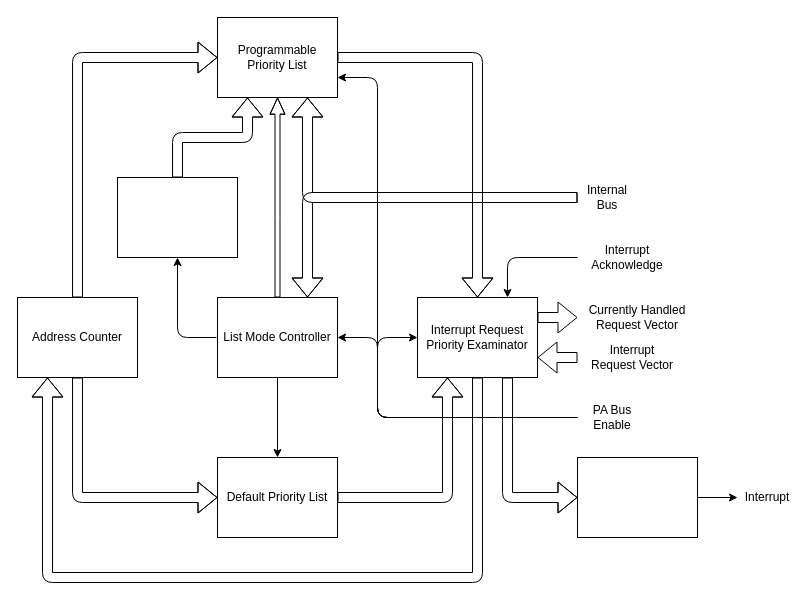
Some shapes in this 807 by 600 pixel diagram are drawn without their labels. The shapes that lost their labels are listed below. From the top down, each one's centre as x and y in pixels, then its label:
At pixel 177 217: "Writing Counter".
At pixel 637 497: "Interrupt Sender".
